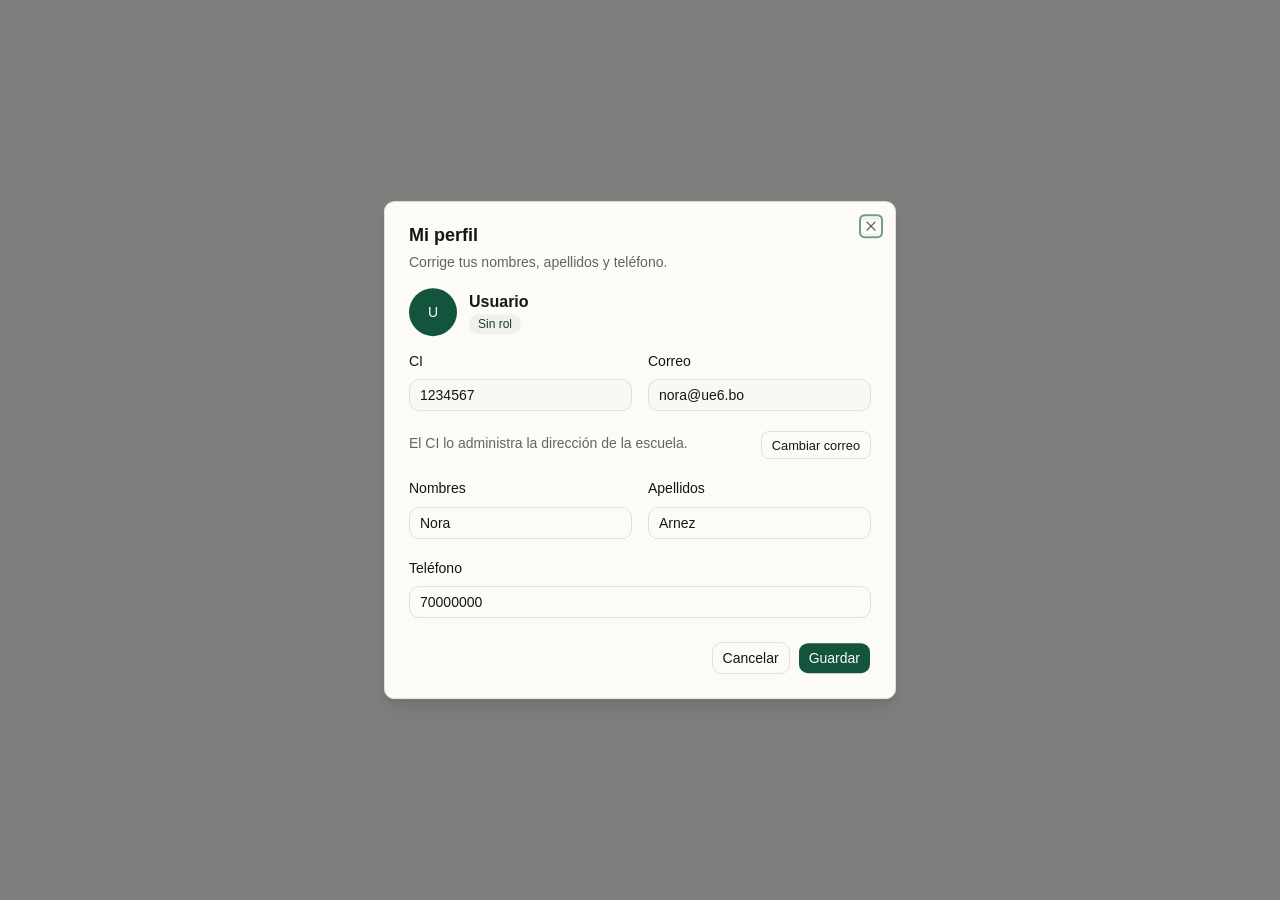
ProfileDialog › cambiar correo › vuelve al perfil después de cambiarlo
expect the field labelled "Nombres" is shown: met, box [409,507,632,539]
Click the button "Cambiar correo".
click(816, 445)  # box [761,431,871,459]
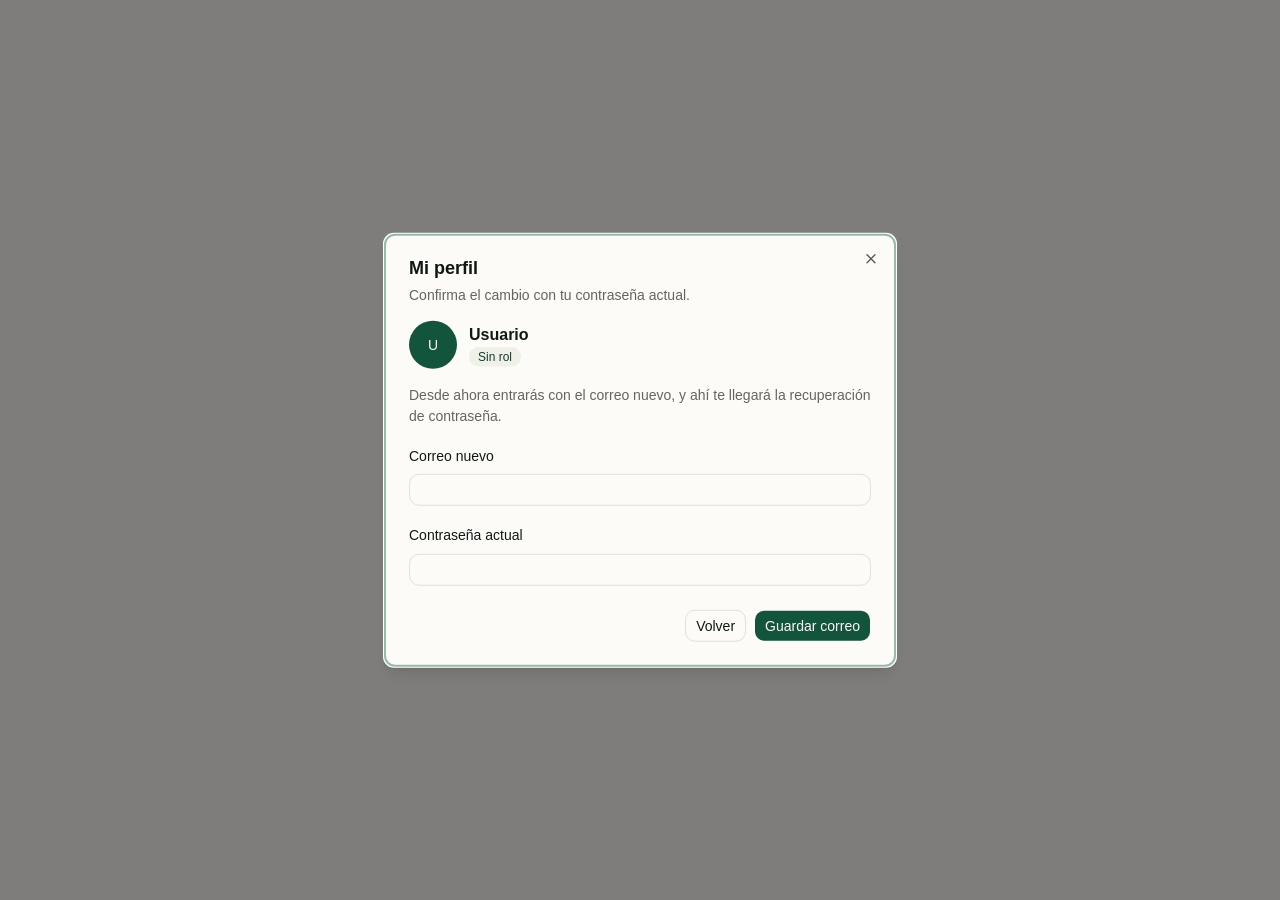
Type "nora.nueva@ue6.bo" into the field labelled "Correo nuevo".
click(640, 490); type("nora.nueva@ue6.bo")  # box [409,474,871,506]
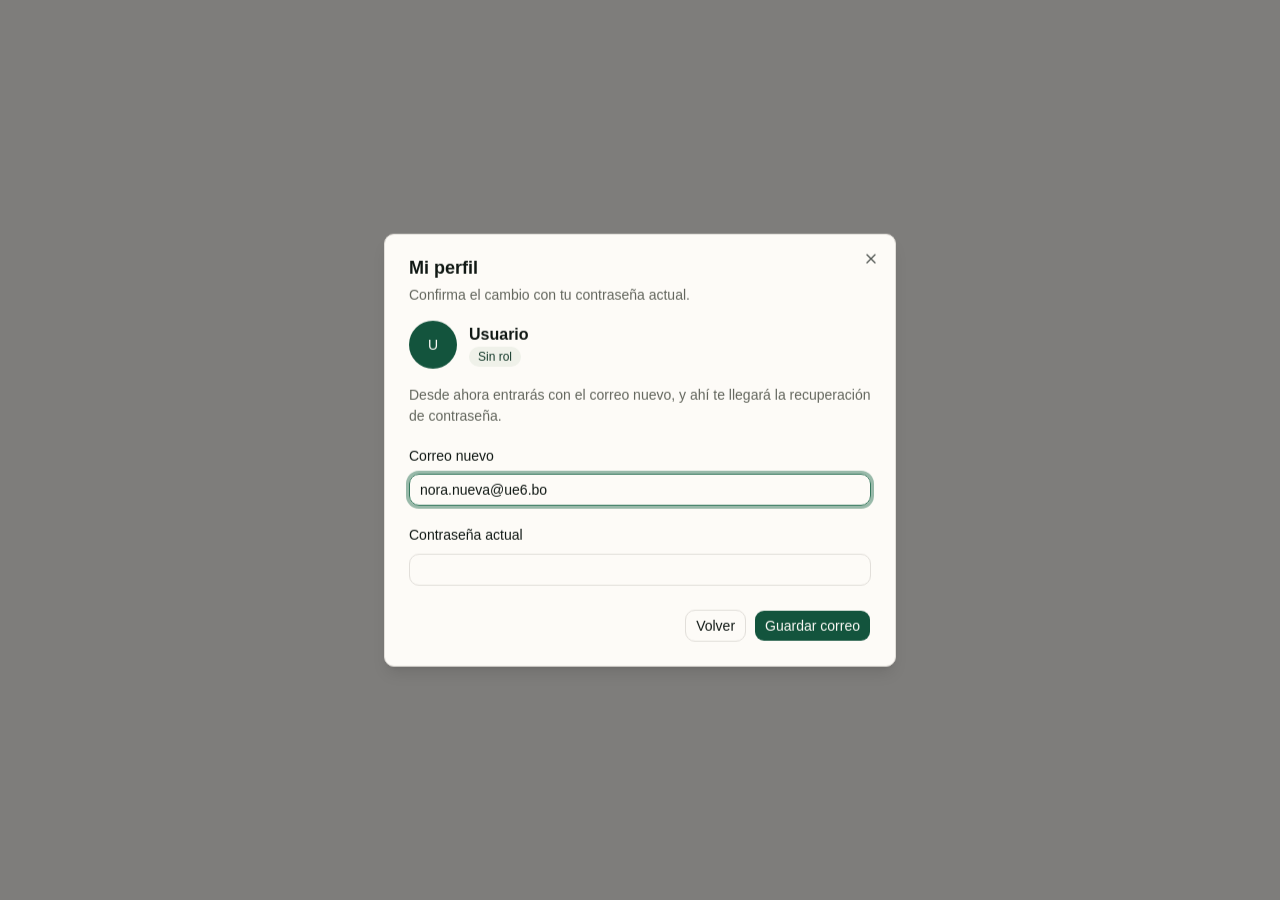
Type "secreta1" into the password field labelled "Contraseña actual".
click(640, 569); type("secreta1")  # box [409,553,871,585]
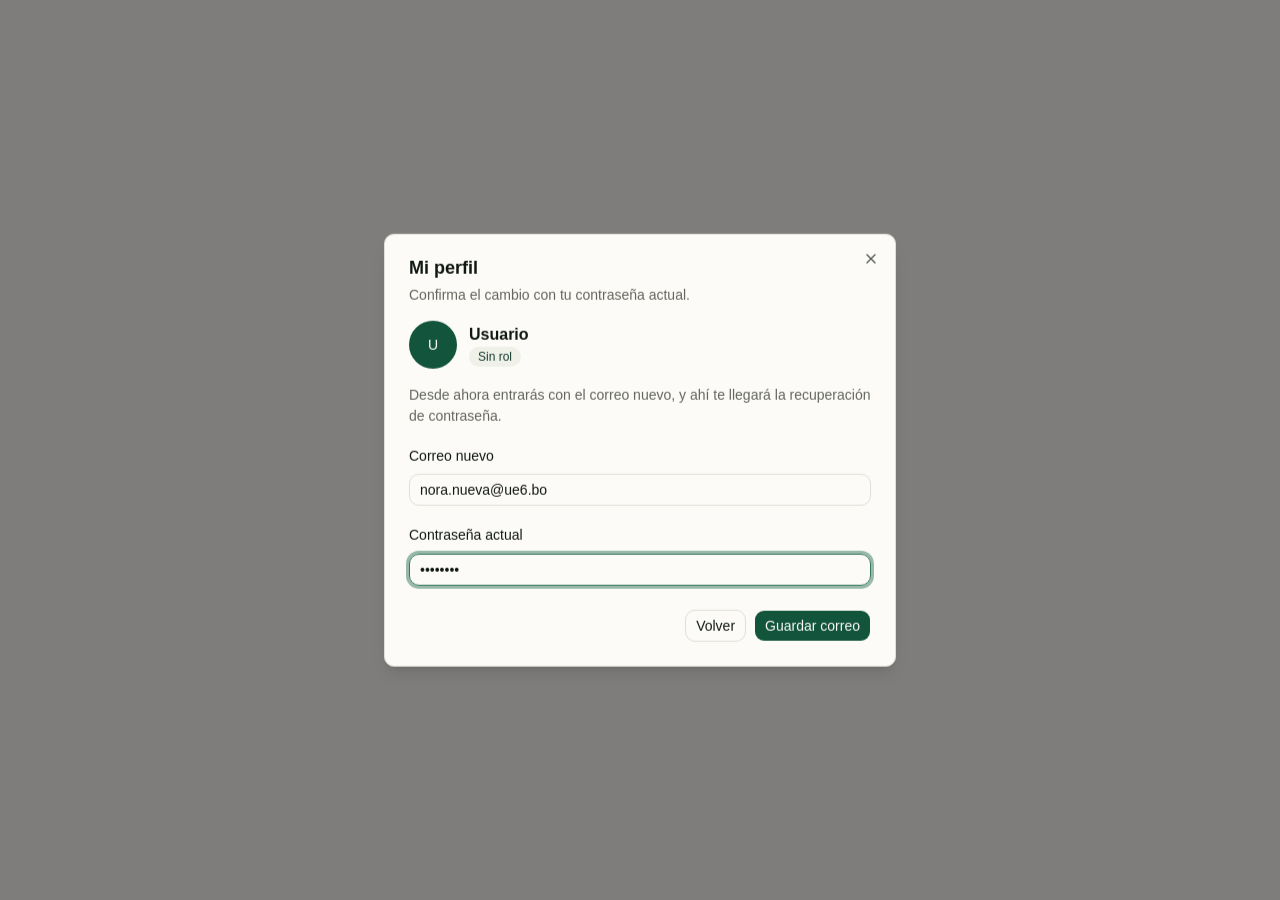
Click the button "Guardar correo".
click(813, 625)  # box [754,609,871,641]
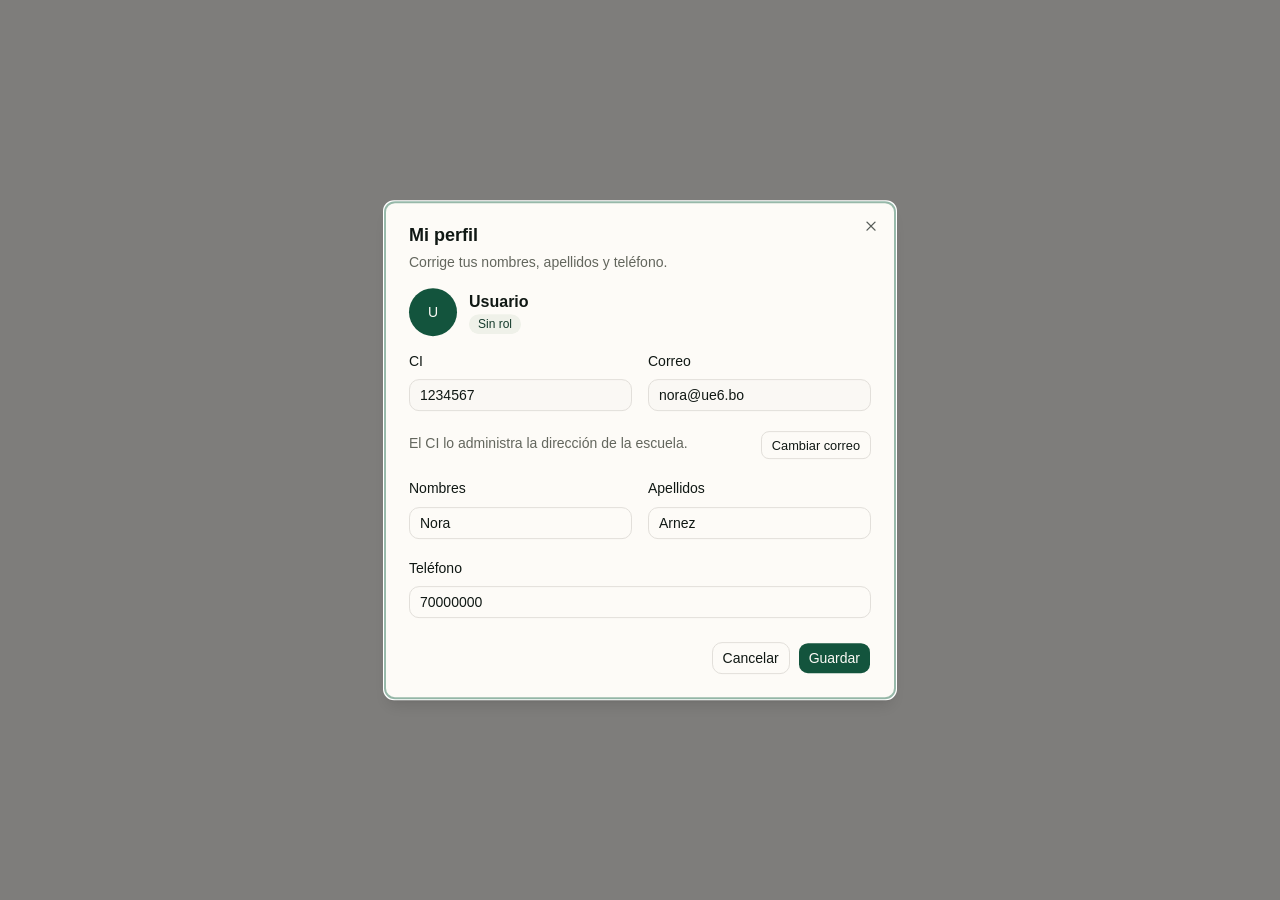
expect the field labelled "Nombres" is shown: met, box [409,507,632,539]
expect the text labelled "correo nuevo" is gone: met
